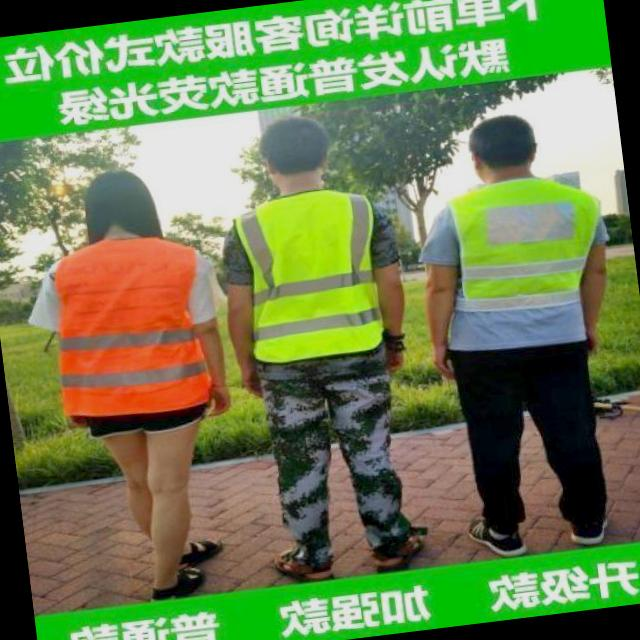vest: (46, 233, 213, 424), (227, 192, 390, 378), (449, 175, 588, 349)
